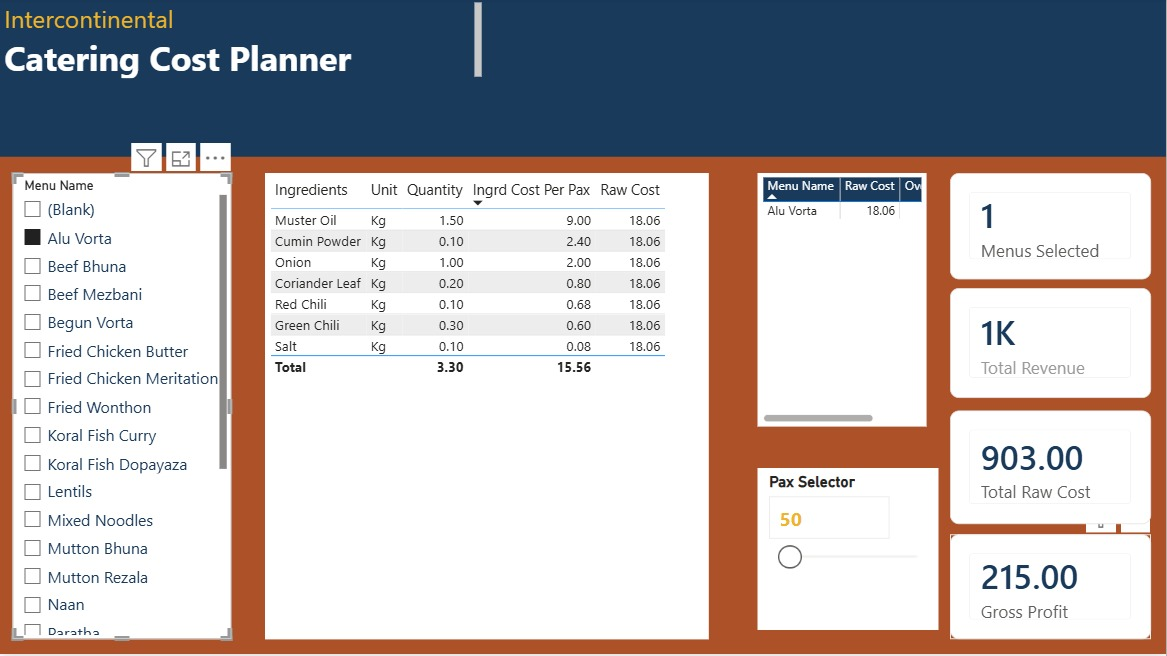

Layout of this report page (visuals, bound fields, positions):
{"tool":"powerbi","page":{"name":"Page 1","canvas":[1280,720],"ordinal":0},"visuals":[{"type":"tableEx","fields":{"Values":["Dim_Menu.Menu Name","Dim_Menu.Raw Cost","Dim_Menu.Overhead Cost"]},"box":[831.6,192.1,185.2,278.6],"z":0},{"type":"slicer","fields":{"Values":["Dim_Menu.Menu Name"]},"box":[13.7,192.1,240.1,511.8],"z":1000},{"type":"slicer","fields":{"Values":["Pax Selector.Pax Selector"]},"box":[831.6,516,197.6,177],"z":2000},{"type":"cardVisual","fields":{"Data":["Dim_Menu.Total Revenue"]},"box":[1042.9,318.4,220.9,120.8],"z":3000},{"type":"cardVisual","fields":{"Data":["Dim_Menu.Gross Profit"]},"box":[1042.9,588.7,220.9,115.3],"z":4000},{"type":"cardVisual","fields":{"Data":["Dim_Menu.Menus Selected"]},"box":[1042.9,192.1,220.9,116.6],"z":5000},{"type":"cardVisual","fields":{"Data":["Dim_Menu.Total Raw Cost"]},"box":[1042.9,452.8,220.9,124.9],"z":6000},{"type":"tableEx","fields":{"Values":["Fact_Ingredients.Ingredients","Fact_Ingredients.Unit","Dim_Menu.Required Ingredient Qty","Sum(Fact_Ingredients.Ingredient Cost Per Pax)","Dim_Menu.Raw Cost"]},"box":[290.9,192.1,487.1,511.8],"z":7000},{"type":"shape","box":[0,0,1280.3,174.3],"z":8000},{"type":"textbox","box":[0,0,533.8,93.3],"z":9000}]}

Visuals, with their boxes in screenshot pixels (x1, y1, x2, y2), scaled from the page's 1280x720 canvas onto the 1167x656 screenshot:
tableEx - Dim_Menu.Menu Name x Dim_Menu.Raw Cost: (758,175,927,429)
slicer - Dim_Menu.Menu Name: (12,175,231,641)
slicer - Pax Selector.Pax Selector: (758,470,938,631)
cardVisual - Dim_Menu.Total Revenue: (951,290,1152,400)
cardVisual - Dim_Menu.Gross Profit: (951,536,1152,641)
cardVisual - Dim_Menu.Menus Selected: (951,175,1152,281)
cardVisual - Dim_Menu.Total Raw Cost: (951,413,1152,526)
tableEx - Fact_Ingredients.Ingredients x Fact_Ingredients.Unit: (265,175,709,641)
shape: (0,0,1166,159)
textbox: (0,0,487,85)
